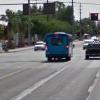Bus: (44, 29, 74, 63)
